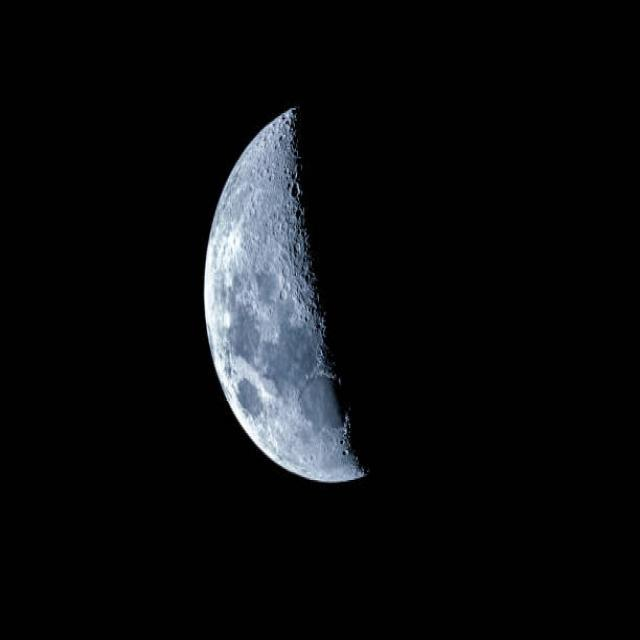moon: (177, 96, 460, 478)
